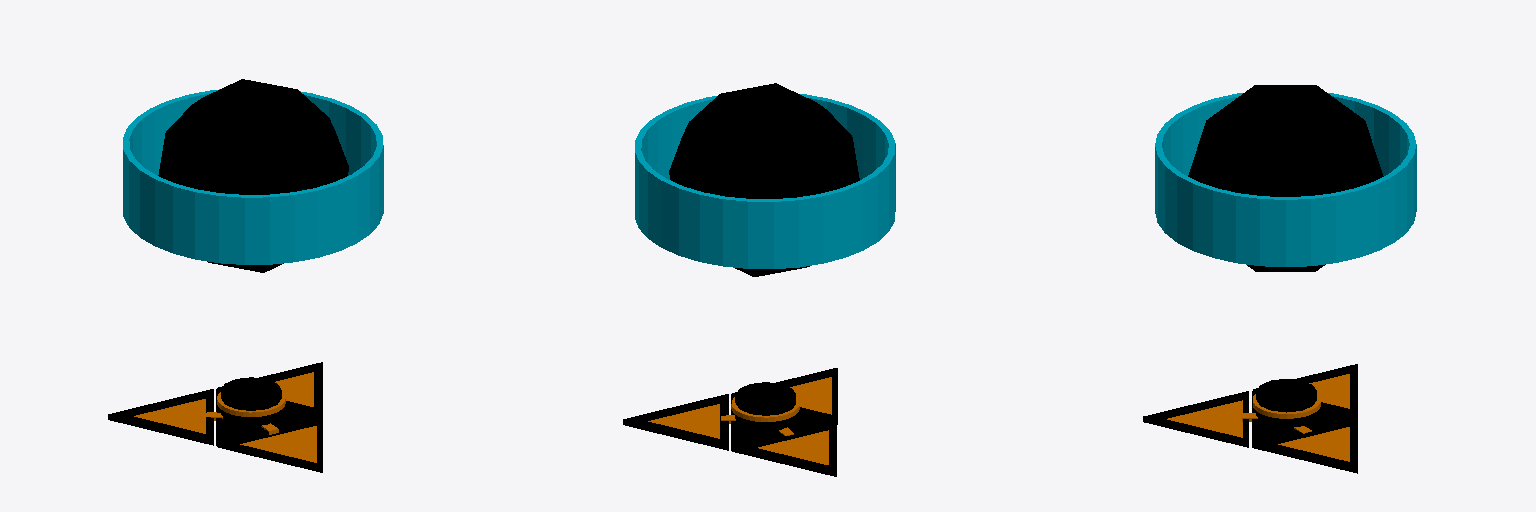
Rendered from chest_closed.obj.
The picture shows the model from 3 angles: view 1: azimuth 30°, elevation 25°; view 2: azimuth 150°, elevation 25°; view 3: azimuth 270°, elevation 25°; orthographic projection.
Visible parts, largest first — view 1: Circle, Icosphere, Cylinder.001, Cylinder.002, Cylinder.003, Cylinder, Circle.003; view 2: Circle, Icosphere, Cylinder.001, Cylinder.003, Cylinder.002, Cylinder, Circle.003; view 3: Circle, Icosphere, Cylinder.001, Cylinder.002, Cylinder.003, Cylinder, Circle.003.
Boxes of the visible parts, <box> form: Circle: <box>123,89,383,264</box>; Icosphere: <box>158,79,348,272</box>; Cylinder.001: <box>108,362,322,445</box>; Cylinder.002: <box>217,416,322,472</box>; Cylinder.003: <box>221,377,281,427</box>; Cylinder: <box>216,389,321,445</box>; Circle.003: <box>217,392,285,416</box>; Circle: <box>635,94,895,268</box>; Icosphere: <box>669,83,859,276</box>; Cylinder.001: <box>623,394,836,476</box>; Cylinder.003: <box>735,382,795,432</box>; Cylinder.002: <box>732,368,837,424</box>; Cylinder: <box>731,394,835,450</box>; Circle.003: <box>731,397,799,421</box>; Circle: <box>1155,93,1416,266</box>; Icosphere: <box>1188,85,1383,271</box>; Cylinder.001: <box>1253,364,1357,473</box>; Cylinder.002: <box>1143,391,1248,447</box>; Cylinder.003: <box>1256,379,1316,428</box>; Cylinder: <box>1252,391,1356,447</box>; Circle.003: <box>1253,393,1320,418</box>.
Bounding box in the file's own units: 4.19 × 5.91 × 4.38.